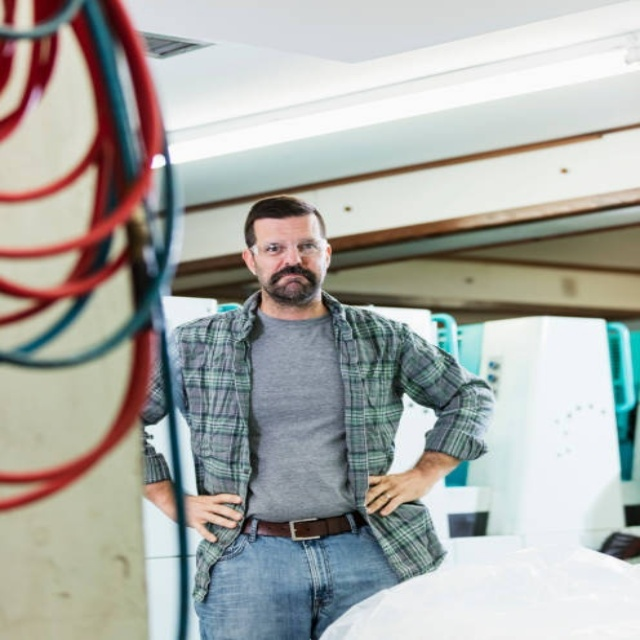Gafas: (245, 235, 330, 259)
Sin_mascara: (268, 266, 317, 294)
